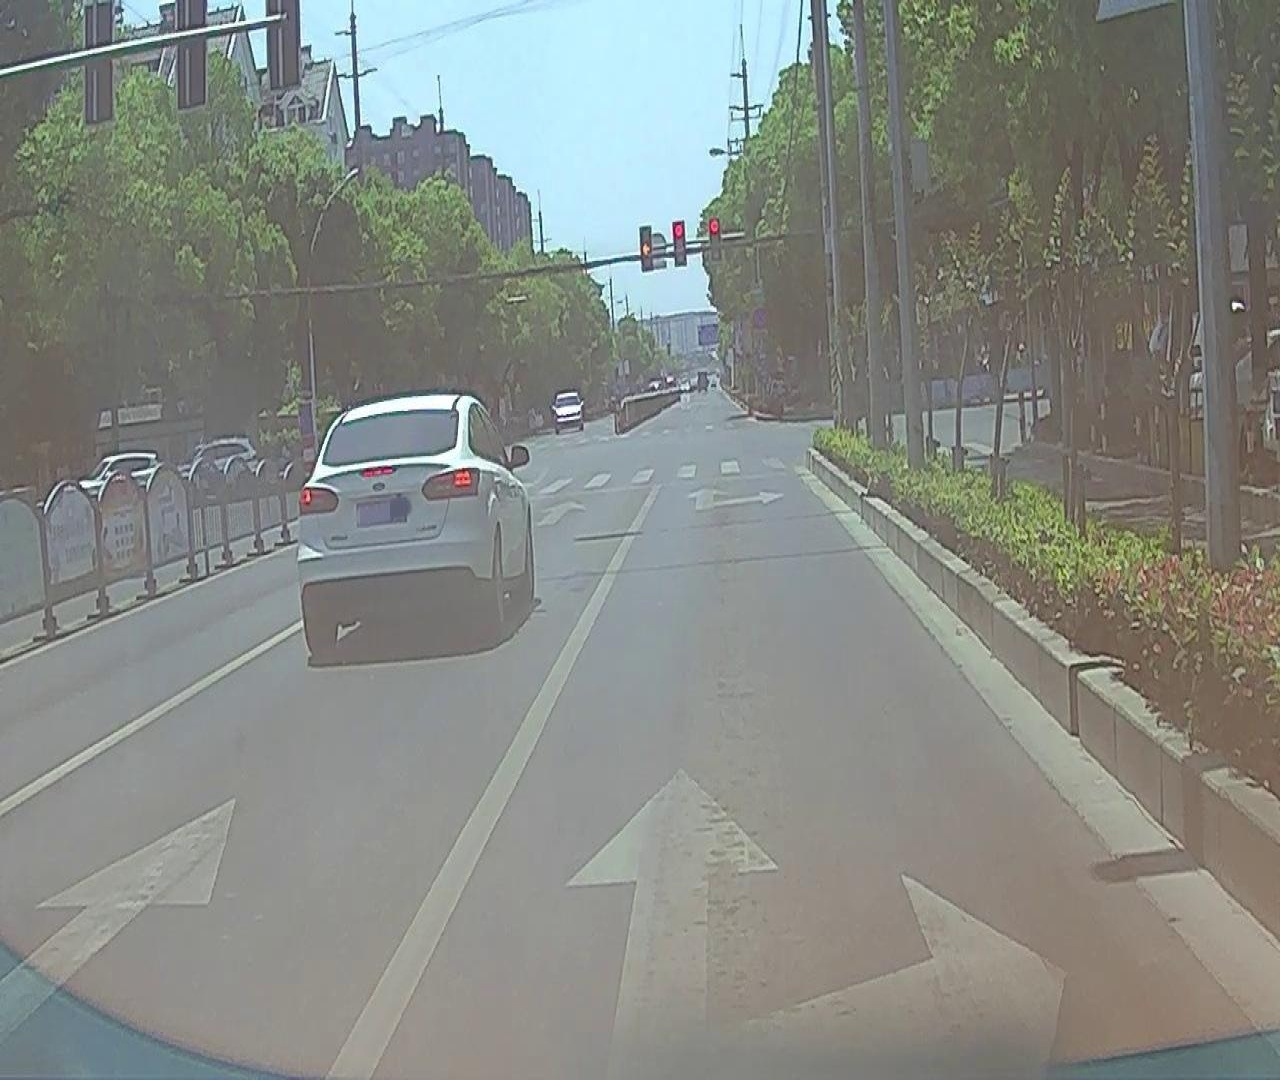red: (708, 219, 722, 264), (673, 220, 686, 265)
yellow: (639, 225, 653, 270)
